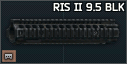AR-15 Daniel Defense RIS II 9.5 handguard: (0, 0, 127, 64)
